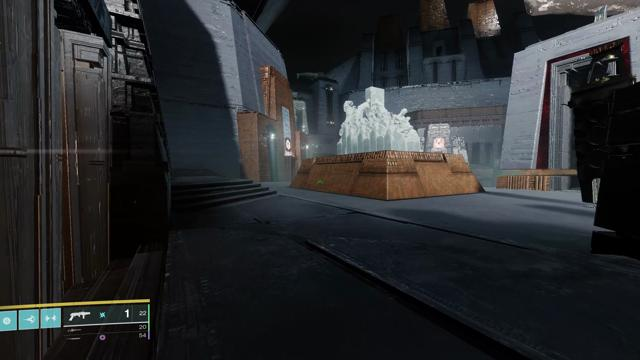give: (435, 139, 443, 147)
worship: (286, 140, 290, 150)
